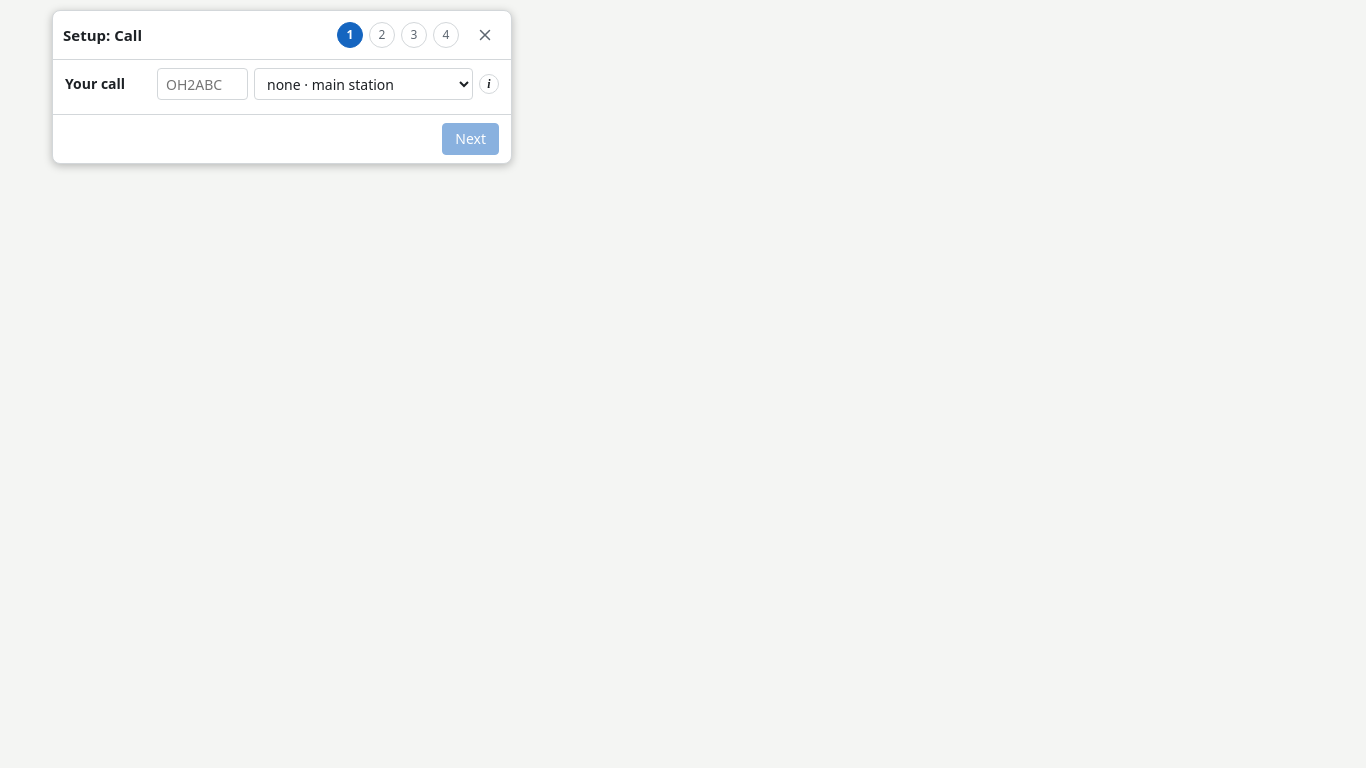
Test: SetupGuide: the call › is checked as it is typed, the daemon's rules, and Next waits
Expected: the submit button is disabled, [442, 123, 499, 155]
In the field with id "setup-call": (202, 84) [157, 68, 248, 100], type "n0call"
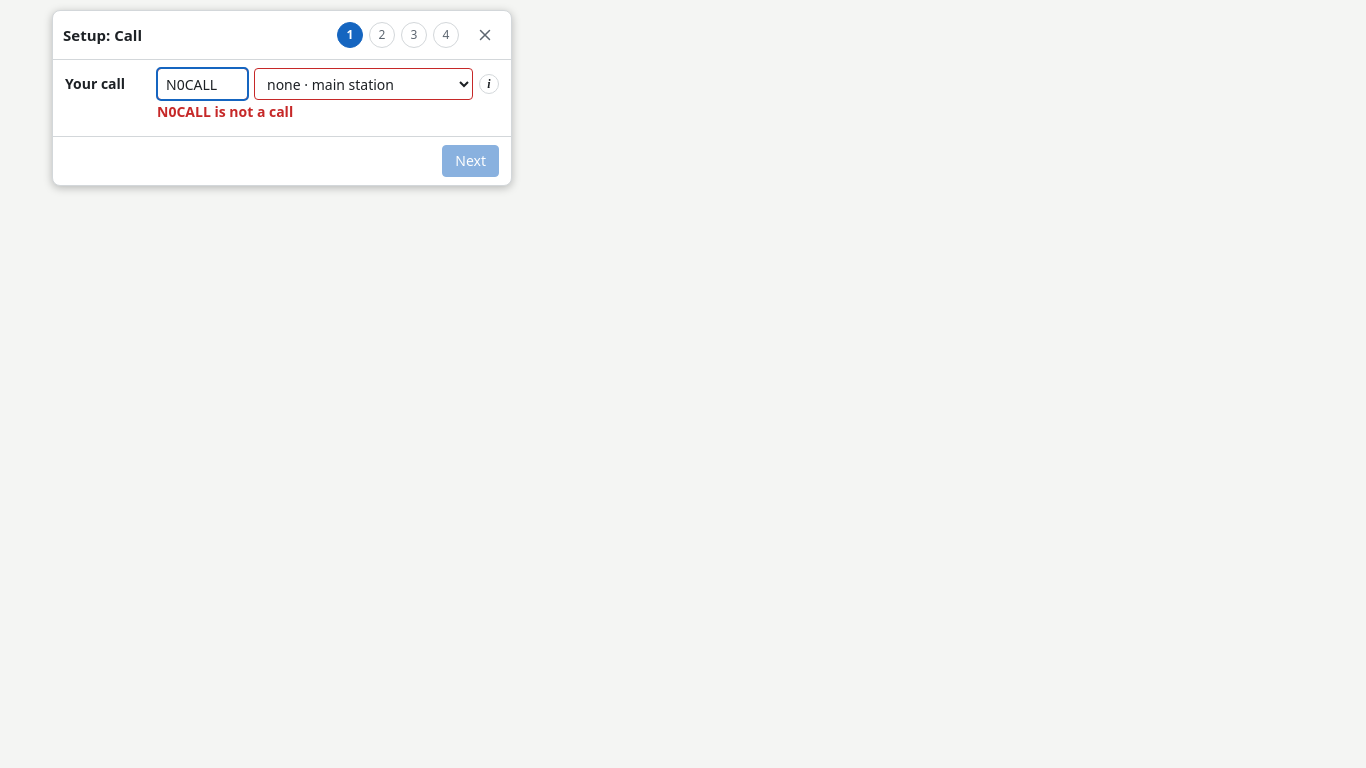
Expected: the submit button is disabled, [442, 145, 499, 177]
Expected: the message with class "field-error" reads "N0CALL is not a call", [157, 102, 293, 121]
Submit the form, box [53, 11, 511, 185]
Replace the text in the field with id "setup-call" with "ab": (202, 84) [157, 68, 248, 100]
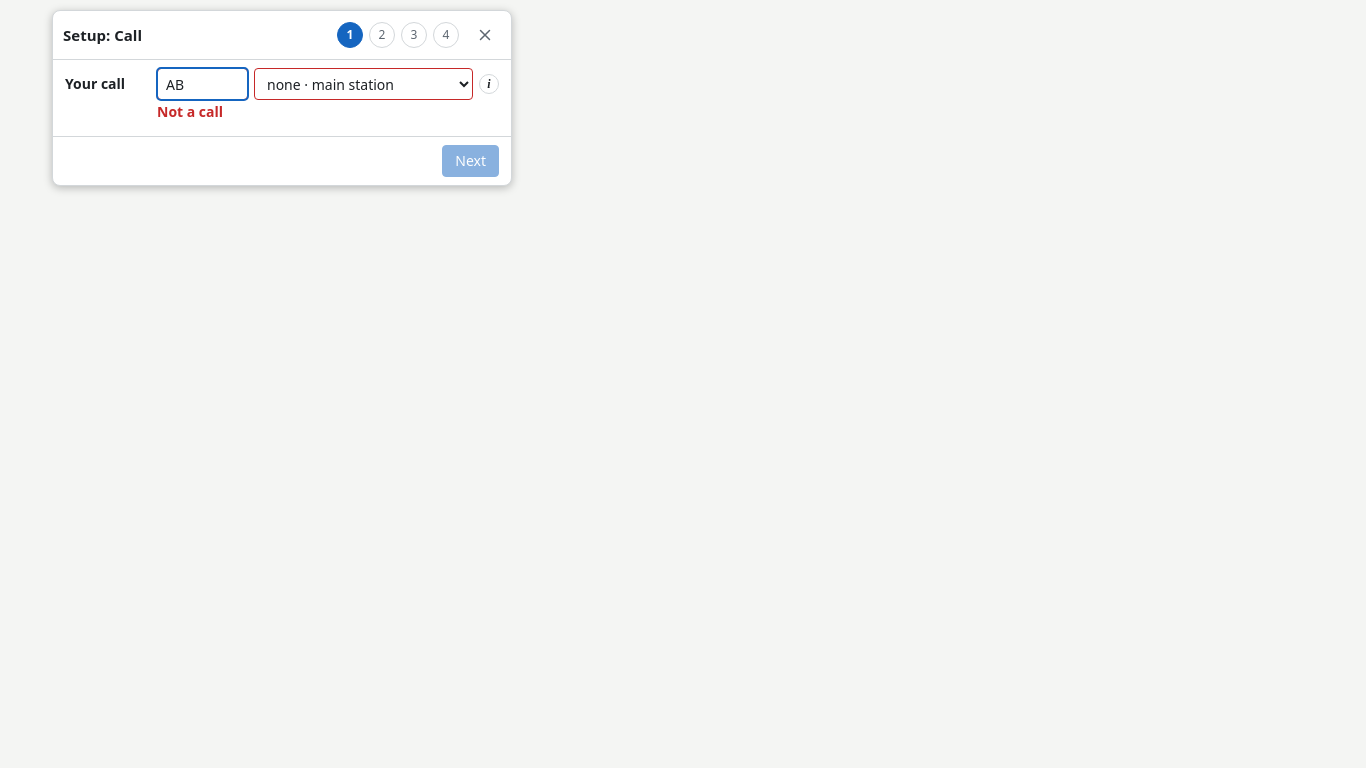
Expected: the message with class "field-error" reads "Not a call", [157, 102, 223, 121]
Replace the text in the field with id "setup-call" with "oh2abc-9": (202, 84) [157, 68, 248, 100]
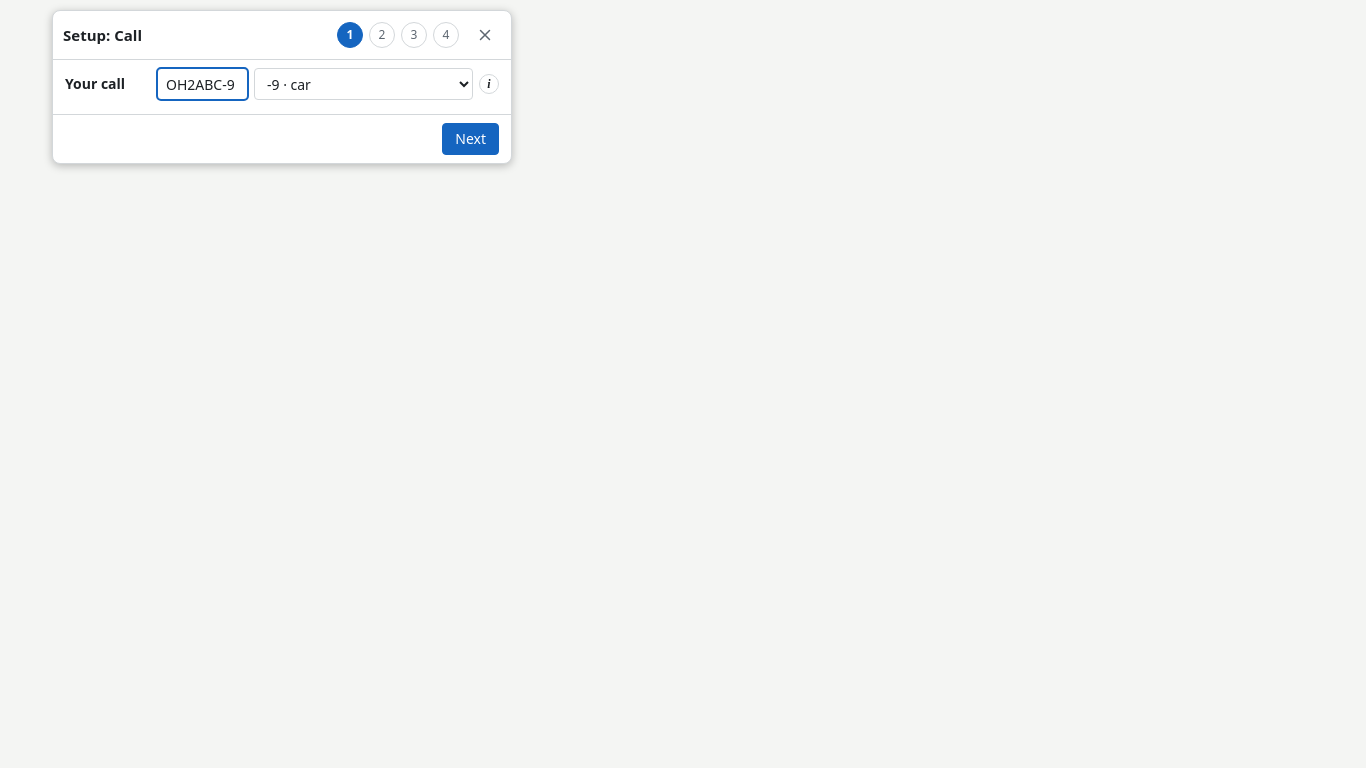
Expected: the dropdown with id "setup-call-ssid" shows "-9 · car", [254, 68, 473, 100]
Expected: the submit button is enabled, [442, 123, 499, 155]
Submit the form, box [53, 11, 511, 163]
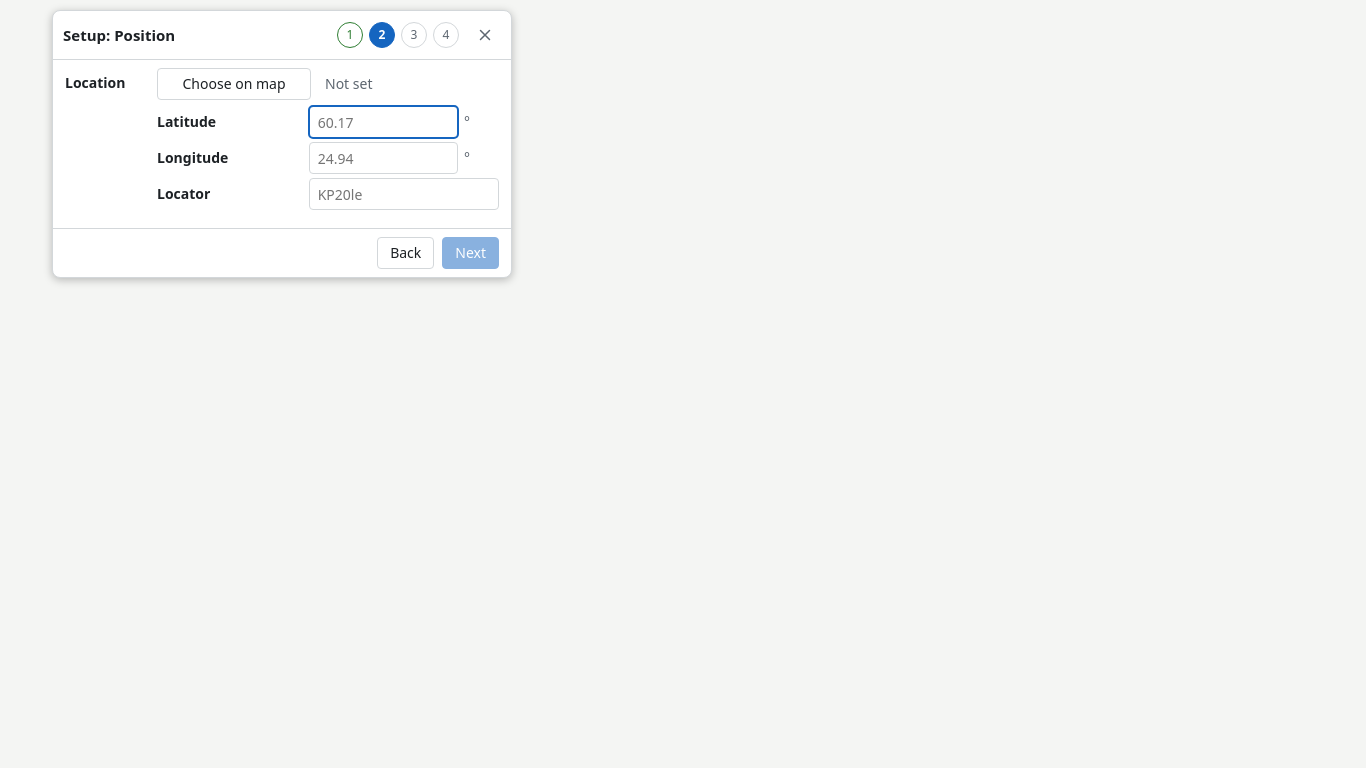
Expected: the text with class "setup-step-name" reads "Position", [114, 24, 175, 44]
